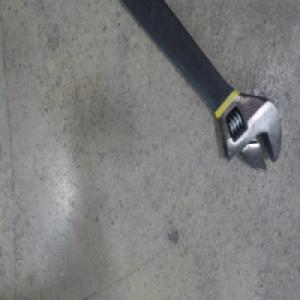AdjustableWrench: (121, 0, 282, 175)
